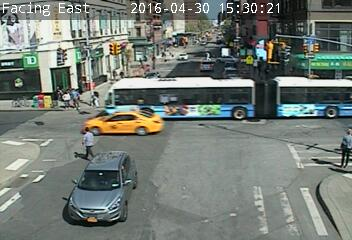neg: (261, 151, 280, 177), (56, 175, 72, 195), (273, 104, 288, 124), (18, 97, 33, 117), (239, 9, 253, 27), (26, 127, 40, 145), (178, 133, 191, 151), (223, 137, 236, 155), (310, 93, 323, 111), (306, 34, 319, 52), (22, 63, 35, 81), (38, 32, 50, 48), (114, 88, 126, 104), (205, 161, 217, 177), (157, 181, 169, 196), (36, 178, 47, 193), (178, 8, 188, 22), (128, 12, 138, 25), (233, 168, 243, 181), (106, 169, 116, 182), (234, 102, 243, 115), (188, 56, 197, 68), (158, 109, 166, 119), (83, 19, 91, 29), (131, 181, 139, 191), (202, 100, 209, 110)
pos: (73, 122, 100, 157), (332, 129, 351, 166), (68, 86, 84, 108), (57, 89, 69, 105), (109, 68, 119, 80), (117, 67, 126, 80)
